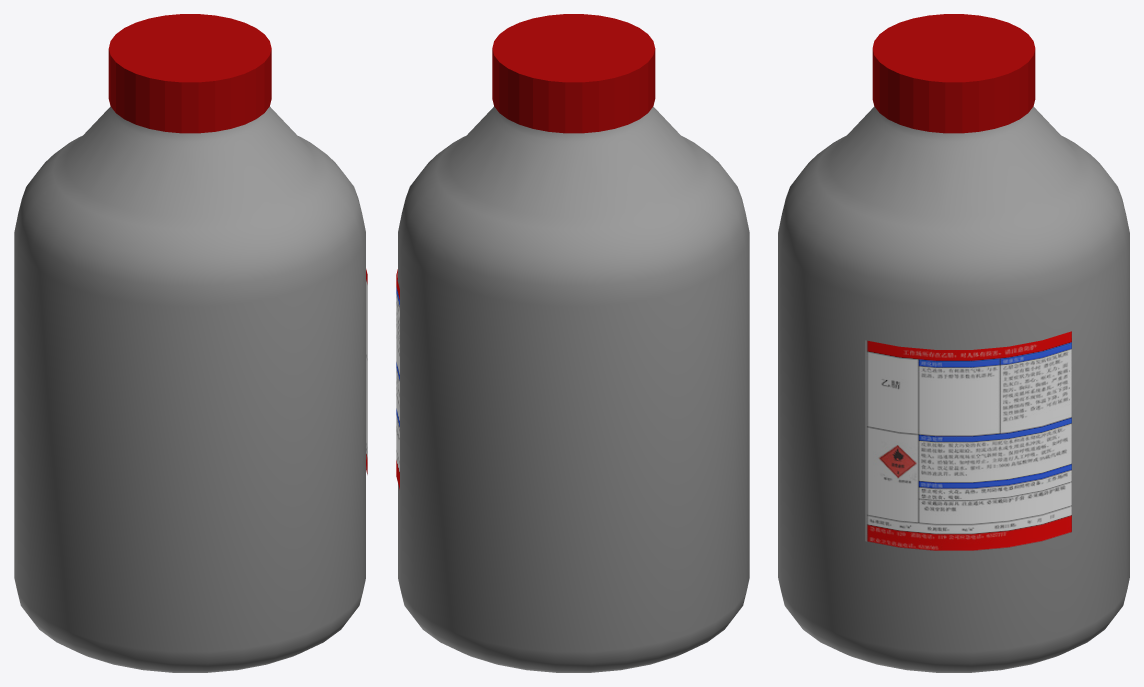
3 views of the same model, side by side, from view 1: azimuth 30°, elevation 25°; view 2: azimuth 150°, elevation 25°; view 3: azimuth 270°, elevation 25° (orthographic).
Parts seen in each view (by area): view 1: SM_乙腈瓶, SM_乙腈瓶盖; view 2: SM_乙腈瓶, SM_乙腈瓶盖; view 3: SM_乙腈瓶, SM_乙腈瓶盖.
Boxes of the visible parts, <box> form: SM_乙腈瓶: <box>14,106,367,672</box>; SM_乙腈瓶盖: <box>108,14,271,133</box>; SM_乙腈瓶: <box>396,106,749,672</box>; SM_乙腈瓶盖: <box>492,14,655,133</box>; SM_乙腈瓶: <box>778,106,1129,672</box>; SM_乙腈瓶盖: <box>872,14,1035,133</box>.
Size of the model in its own units: 0.075 by 0.075 by 0.1324.
